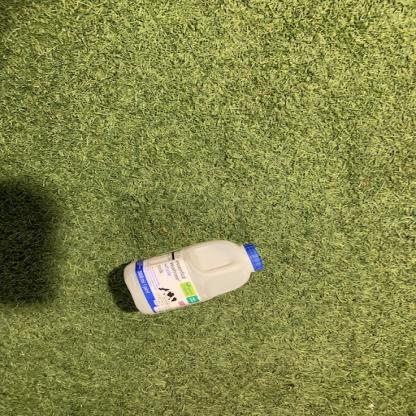trash: (122, 237, 264, 318)
